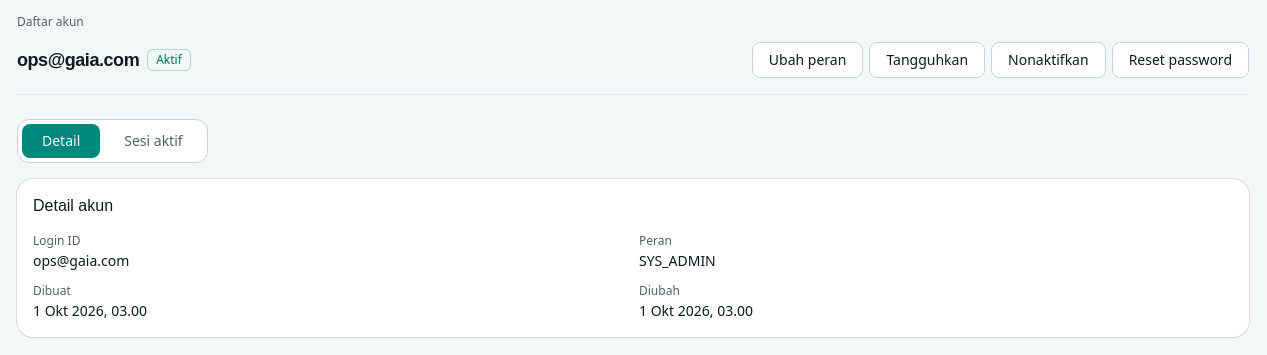
Test case: force logout of another account (D4.10, D13.1) › keeps the generic read message when the GET fails, with no principal handling
Expected: the heading "ops@gaia.com" is shown, x1=17 y1=46 x2=139 y2=74
Click the tab "Sesi aktif".
click(154, 141)  # box x1=104 y1=124 x2=203 y2=158
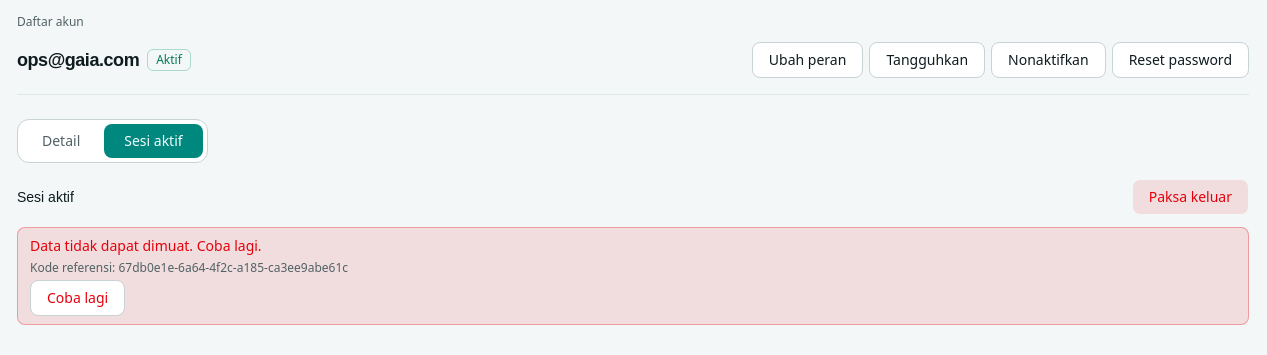
Expected: the message does not show "SERVER TEXT MUST NOT SHOW", x1=17 y1=227 x2=1249 y2=325
Result: the message shows "Data tidak dapat dimuat. Coba lagi." at x1=30 y1=236 x2=262 y2=255
